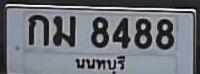4: (112, 17, 130, 49)
8: (90, 16, 110, 48), (155, 18, 174, 50), (134, 18, 153, 49)
A01: (28, 14, 50, 47)
A33: (52, 15, 77, 48)
NBI: (72, 52, 127, 74)
